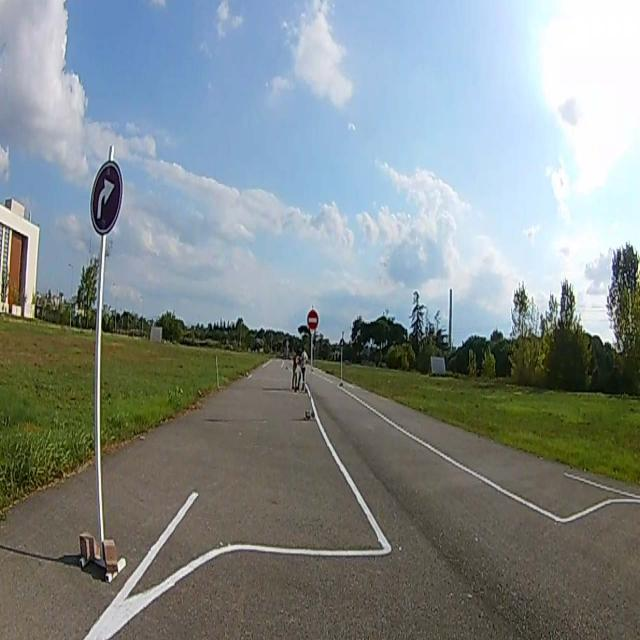girisyok: (308, 312, 318, 328)
sag: (91, 164, 121, 234)
